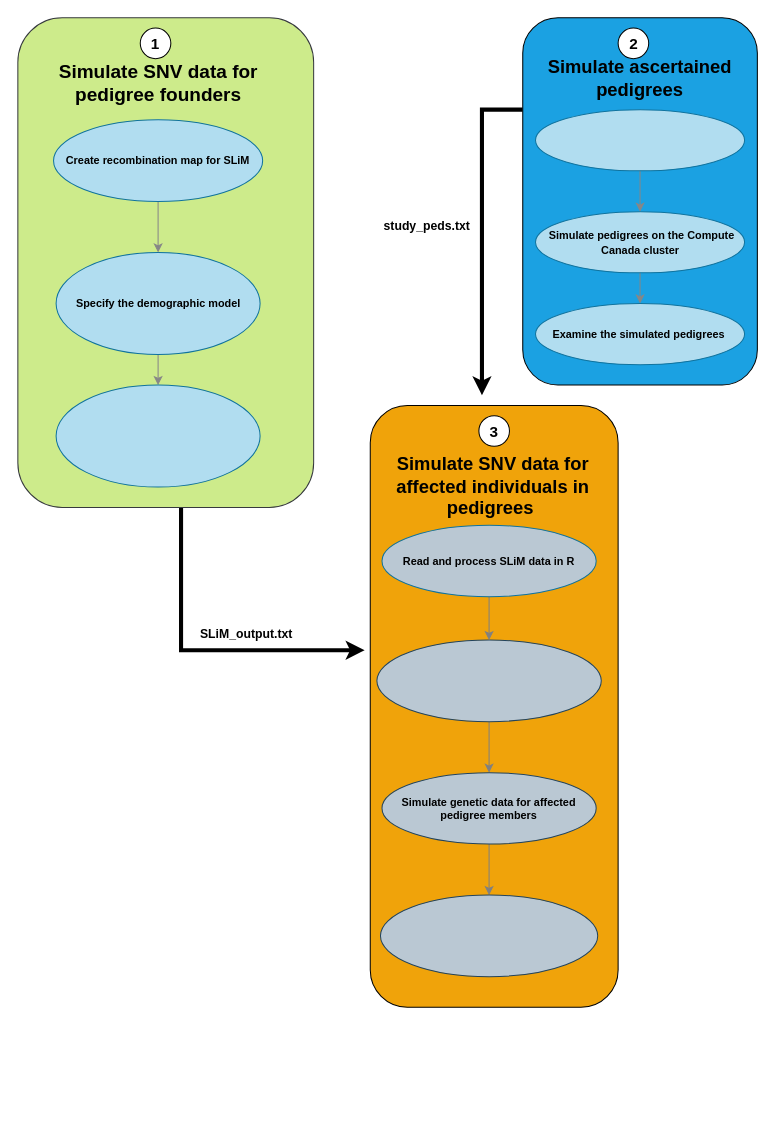
The diagram is 780 pixels wide and 1122 high, and some of its shapes have lost their labels. Here are the shapes that lost their labels. From the top down, the box of each, then its label:
(534, 109, 745, 171): Sample ascertained pedigrees
(55, 384, 260, 487): Simulate population genetic data with SLiM
(376, 639, 601, 722): Select causal variants
(379, 894, 598, 977): Generate data files
